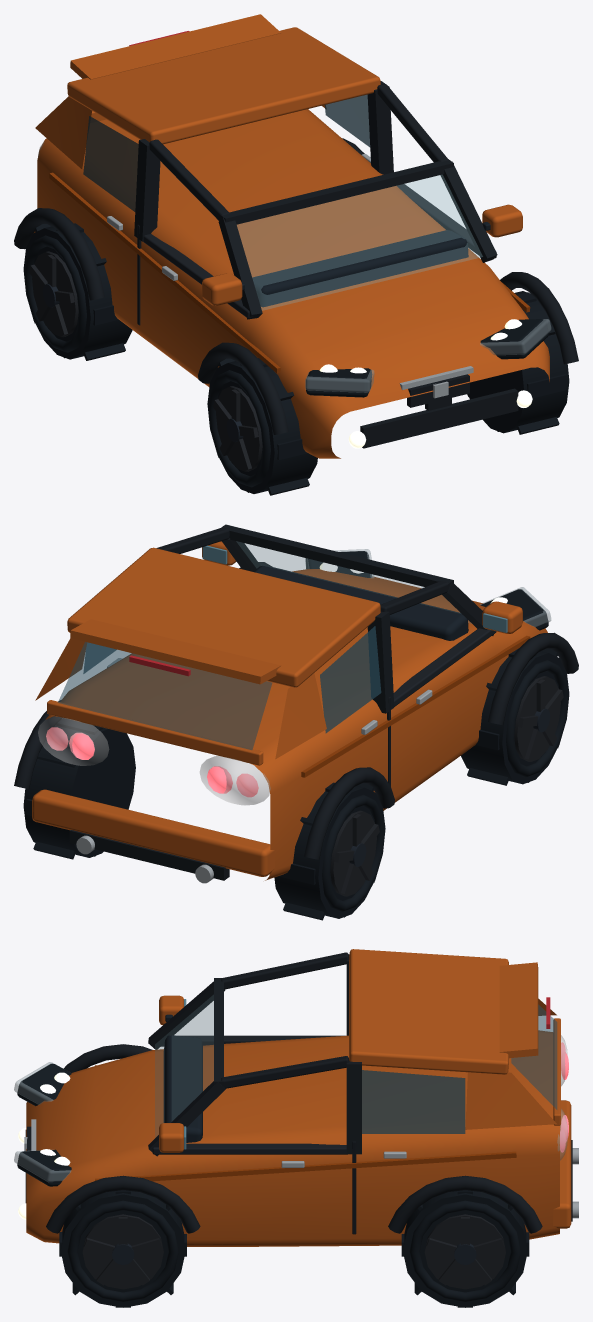
Rendered from orange-seed.glb.
3 renders of one model, top to bottom at view 1: azimuth 30°, elevation 25°; view 2: azimuth 150°, elevation 25°; view 3: azimuth 270°, elevation 25°, orthographic. The views are drawn at different scales.
Parts seen in each view (by area): view 1: hull_merged, grille_merged, tire_merged (×3), low-windscreen, dashboard, rim_merged (×2), side-glass_merged, headlight-dark_merged, c-pillar_merged, character-line_merged, door-top-trim_merged, mirror-shell (×2) (+2 smaller); view 2: hull_merged, tire_merged (×3), grille_merged, hatch-glass, rim_merged (×2), tail-housing_merged, side-glass_merged, c-pillar_merged, dashboard, low-windscreen, tail-light_merged, character-line_merged (+5 smaller); view 3: hull_merged, grille_merged, tire_merged (×2), rim_merged (×2), side-glass_merged, low-windscreen, c-pillar_merged, dashboard, door-top-trim_merged, character-line_merged, headlight-dark_merged, hatch-glass (+6 smaller).
Part boxes in pixels (x1,y1,x2,y2): hull_merged: [34, 14, 549, 458]; grille_merged: [14, 81, 578, 448]; tire_merged (×3): [23, 223, 569, 495]; low-windscreen: [237, 175, 482, 310]; dashboard: [252, 230, 468, 307]; rim_merged (×2): [29, 251, 262, 471]; side-glass_merged: [83, 94, 370, 211]; headlight-dark_merged: [306, 319, 548, 397]; c-pillar_merged: [35, 96, 325, 168]; character-line_merged: [49, 172, 530, 373]; door-top-trim_merged: [143, 184, 496, 318]; mirror-shell (×2): [202, 204, 522, 305]; hull_merged: [32, 547, 547, 880]; tire_merged (×3): [23, 648, 569, 920]; grille_merged: [14, 524, 578, 880]; hatch-glass: [58, 642, 272, 749]; rim_merged (×2): [330, 676, 563, 896]; tail-housing_merged: [38, 716, 270, 805]; side-glass_merged: [83, 626, 381, 733]; c-pillar_merged: [35, 638, 326, 759]; dashboard: [254, 565, 468, 640]; low-windscreen: [236, 541, 471, 623]; tail-light_merged: [46, 727, 258, 797]; character-line_merged: [301, 635, 530, 777]; hull_merged: [26, 949, 571, 1246]; grille_merged: [25, 952, 572, 1234]; tire_merged (×2): [59, 1190, 529, 1307]; rim_merged (×2): [82, 1214, 505, 1289]; side-glass_merged: [362, 1070, 465, 1133]; low-windscreen: [155, 995, 213, 1137]; c-pillar_merged: [465, 998, 556, 1129]; dashboard: [163, 1035, 202, 1142]; door-top-trim_merged: [152, 1035, 347, 1154]; character-line_merged: [95, 1065, 516, 1181]; headlight-dark_merged: [17, 1063, 71, 1186]; hatch-glass: [511, 1004, 557, 1109].
Bounding box in the file's own units: 2.62 × 2.09 × 4.43.
